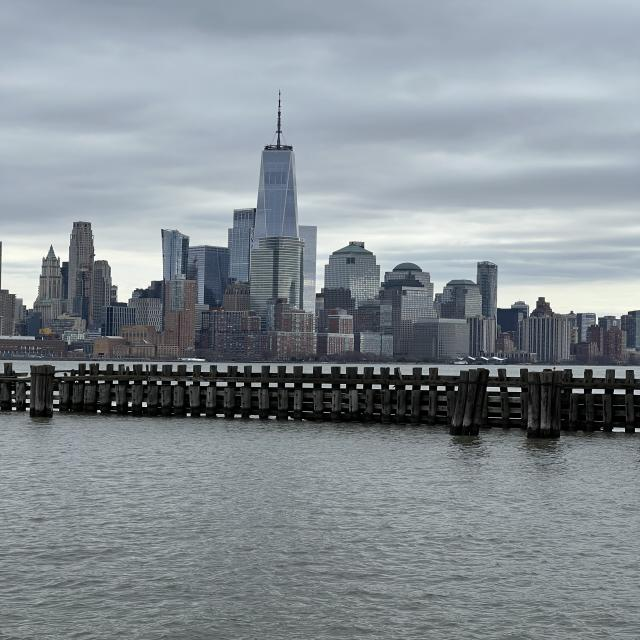WTC: (253, 85, 300, 237)
